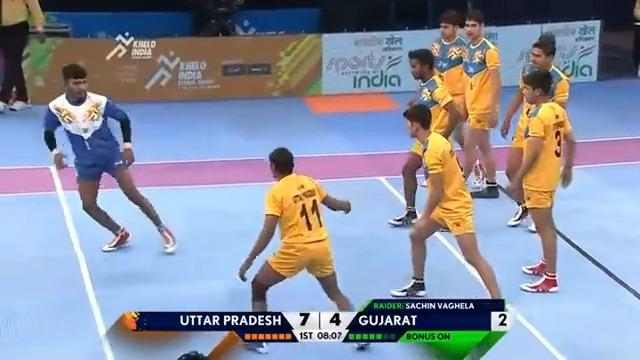Player: (236, 146, 370, 353), (389, 103, 504, 301), (508, 69, 576, 293), (387, 48, 460, 227), (460, 10, 501, 198), (428, 9, 469, 147)
Raider: (42, 62, 177, 254)
referee: (0, 0, 46, 112), (195, 0, 239, 36), (629, 0, 639, 76)
